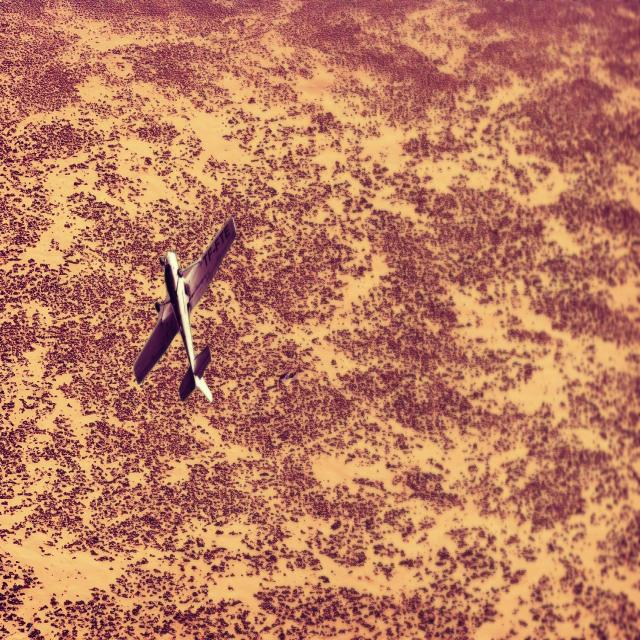airplane: (133, 215, 236, 404)
